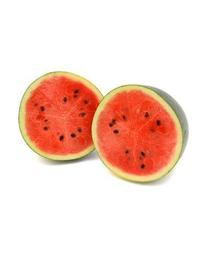watermelon: (17, 69, 190, 183)
